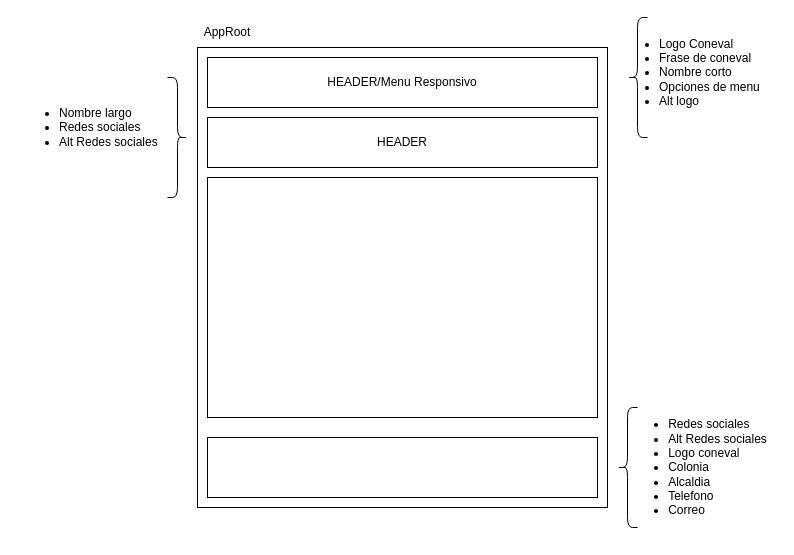
Some shapes in this 794 by 555 pixel diagram are drawn without their labels. The centre of each missing label's shape, as x and y in pixels:
"Contenido" belongs at pixel 402 297.
"Footer" belongs at pixel 402 467.
